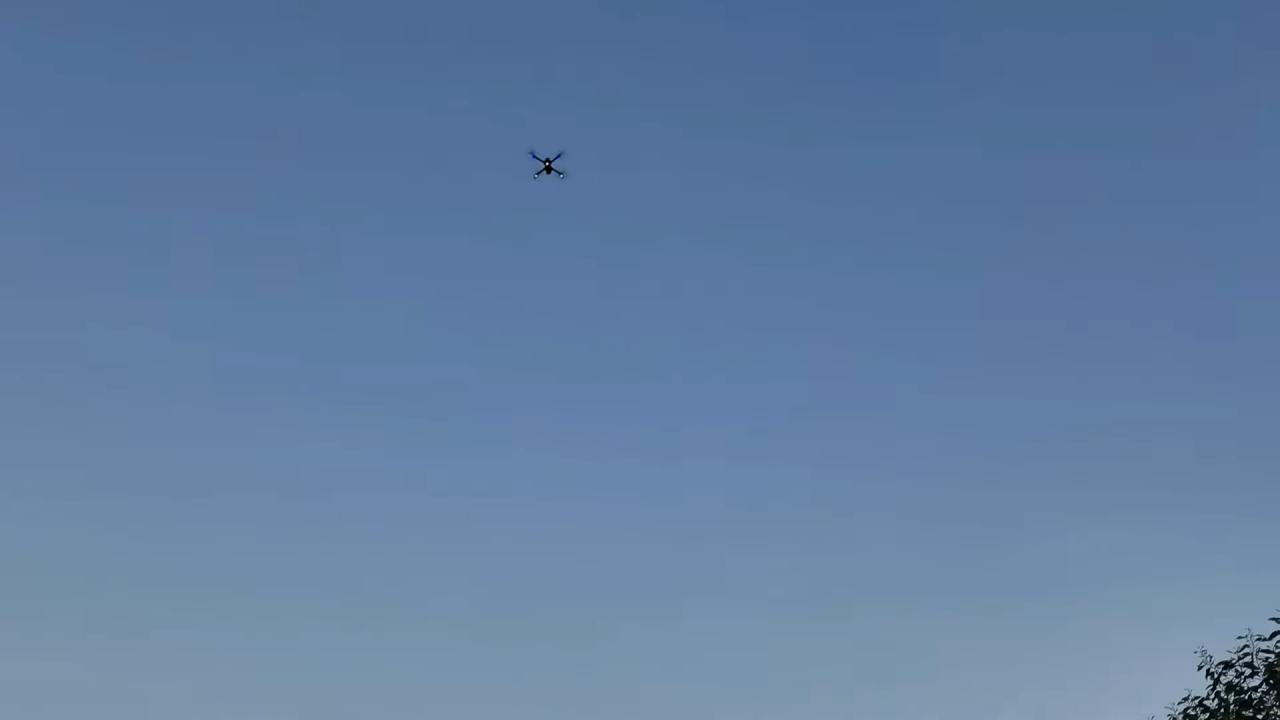Drone: (517, 138, 577, 192)
